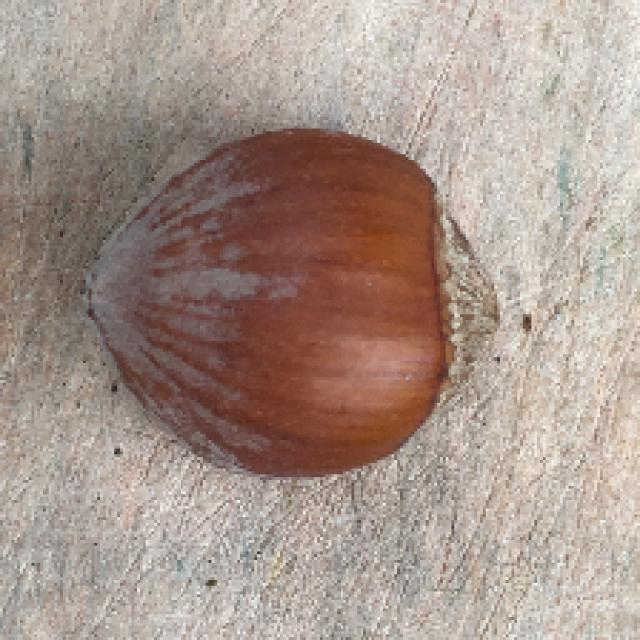qualityHazelnut: (75, 119, 503, 484)
